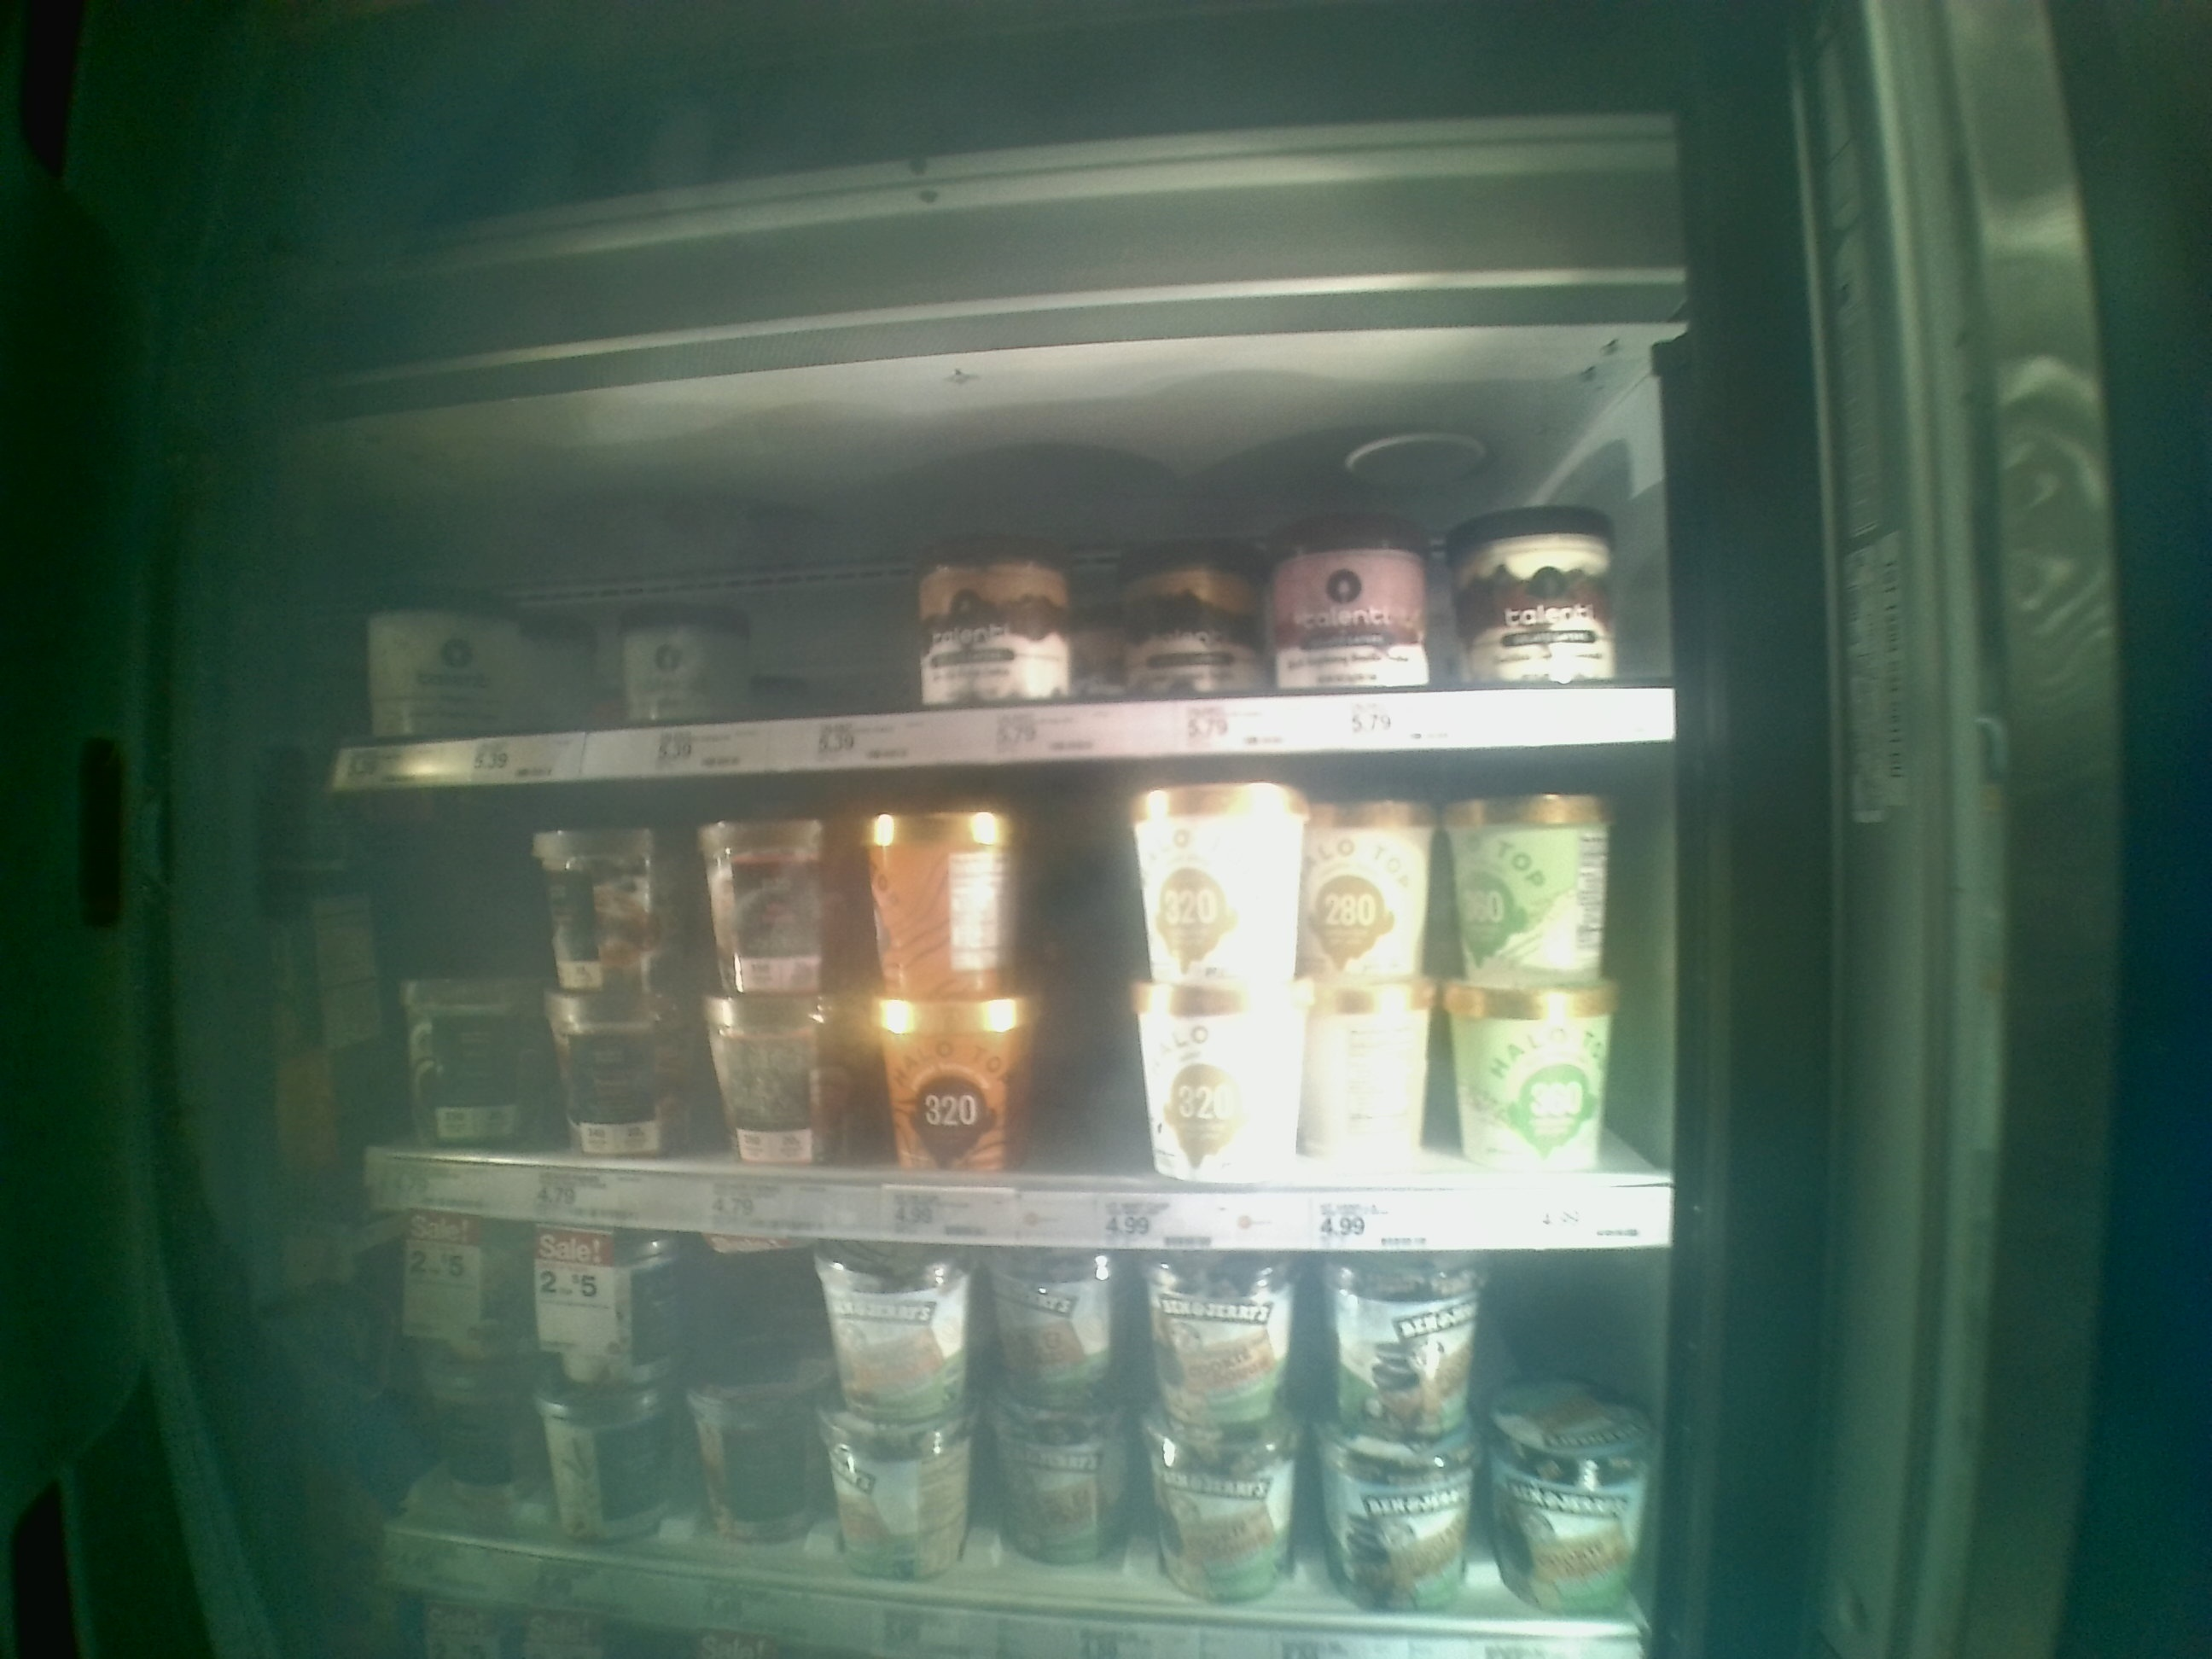ice-cream-shelf: (324, 782, 1681, 1258), (329, 397, 1684, 782)
